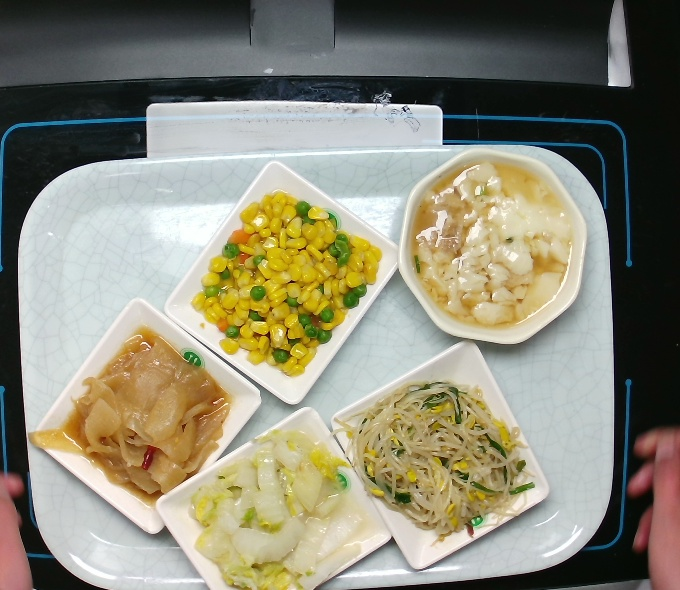wcq-DaBaiCai: (184, 422, 372, 590)
wcq-DongGua: (24, 324, 242, 513)
wcq-DouYa: (323, 374, 542, 547)
wcq-ShuiZhengDan: (403, 154, 579, 341)
wcq-TianMiTianDou: (183, 186, 390, 381)
